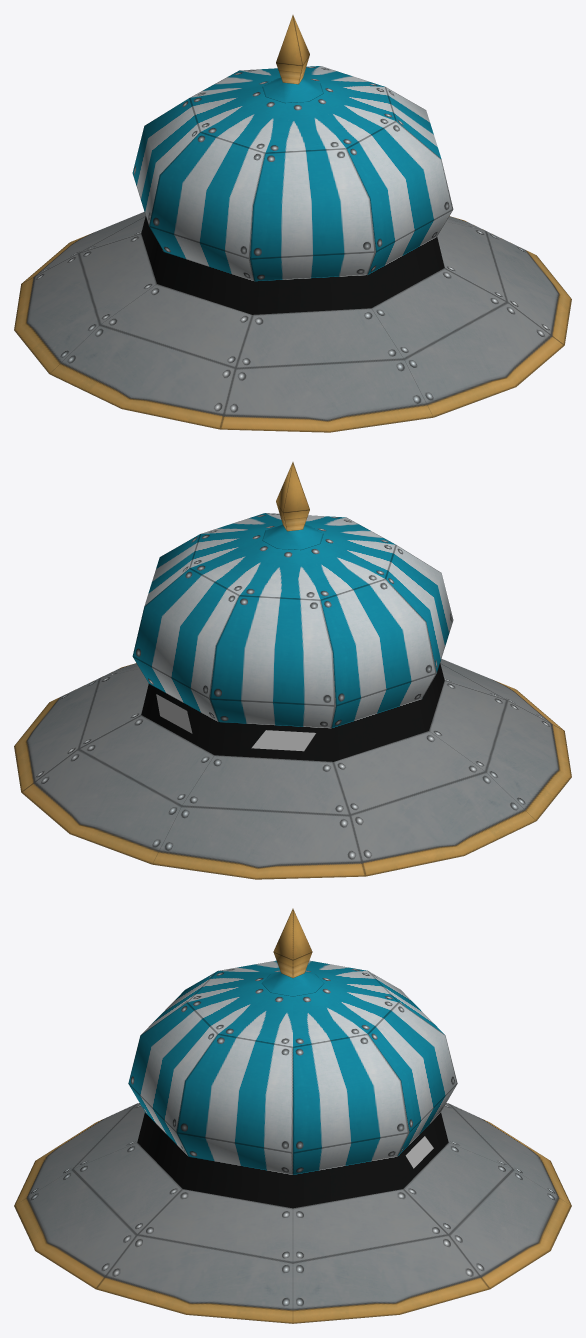
File: UFOb.fbx
The picture shows the model from 3 angles, top to bottom: view 1: azimuth 30°, elevation 25°; view 2: azimuth 150°, elevation 25°; view 3: azimuth 270°, elevation 25°; orthographic projection.
Visible parts, largest first — view 1: Empty_Mesh; view 2: Empty_Mesh; view 3: Empty_Mesh.
Boxes of the visible parts, x1,y1,x2,y2 form: Empty_Mesh: (14,15,571,432); Empty_Mesh: (14,462,571,879); Empty_Mesh: (14,908,571,1323).
Size of the model in its own units: 0.688 by 0.4703 by 0.688.
